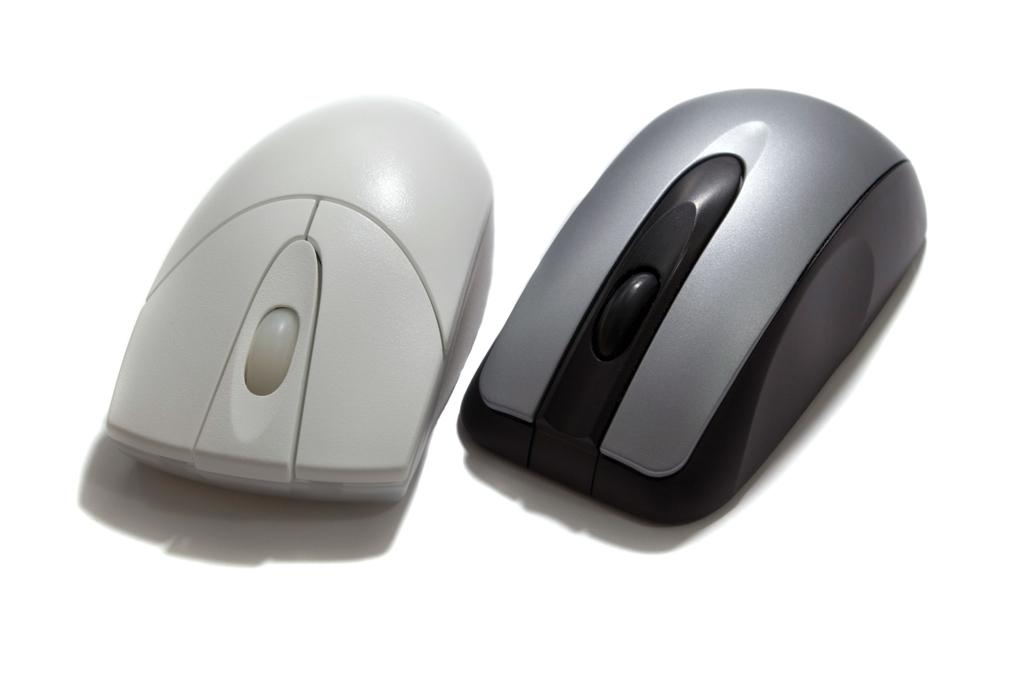Computer-mouse: (460, 81, 929, 525), (101, 90, 498, 508)
